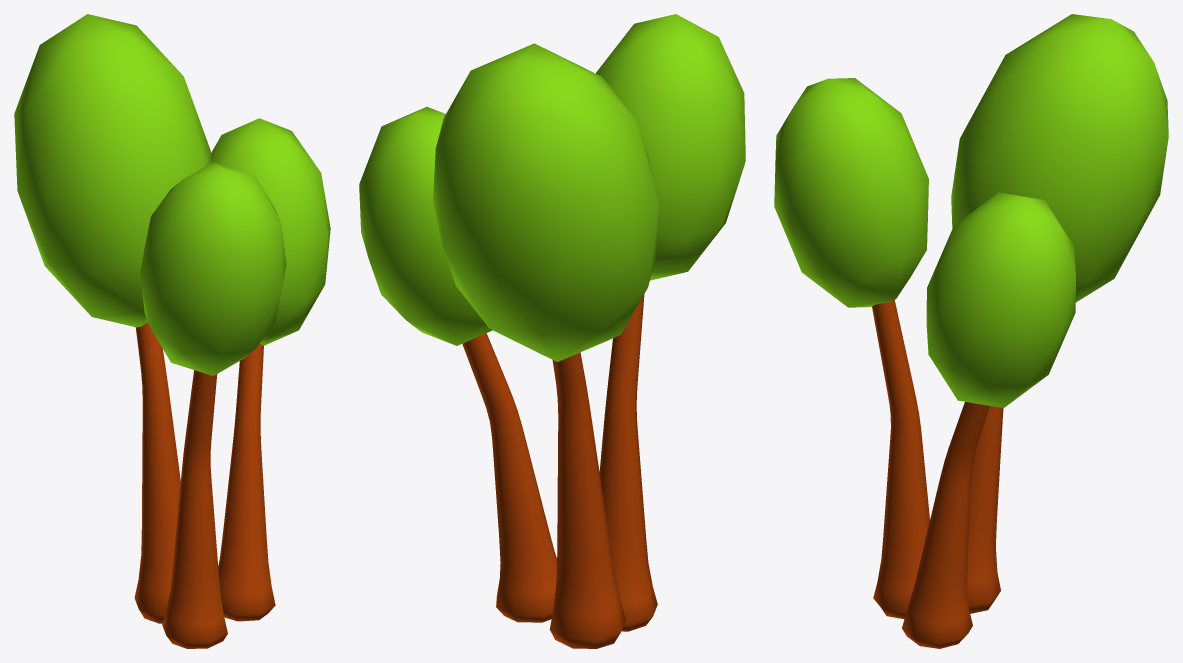
Rendered from Tree003.fbx.
The picture shows the model from 3 angles, left to right: view 1: azimuth 30°, elevation 25°; view 2: azimuth 150°, elevation 25°; view 3: azimuth 270°, elevation 25°; orthographic projection. The views are drawn at different scales.
Visible parts, largest first — view 1: Icosphere.003; view 2: Icosphere.003; view 3: Icosphere.003.
Boxes of the visible parts, x1,y1,x2,y2 form: Icosphere.003: (14, 14, 330, 648); Icosphere.003: (359, 14, 745, 648); Icosphere.003: (774, 14, 1168, 648).
Bounding box in the file's own units: 172 × 351 × 214.
1 material, 1 textured.
